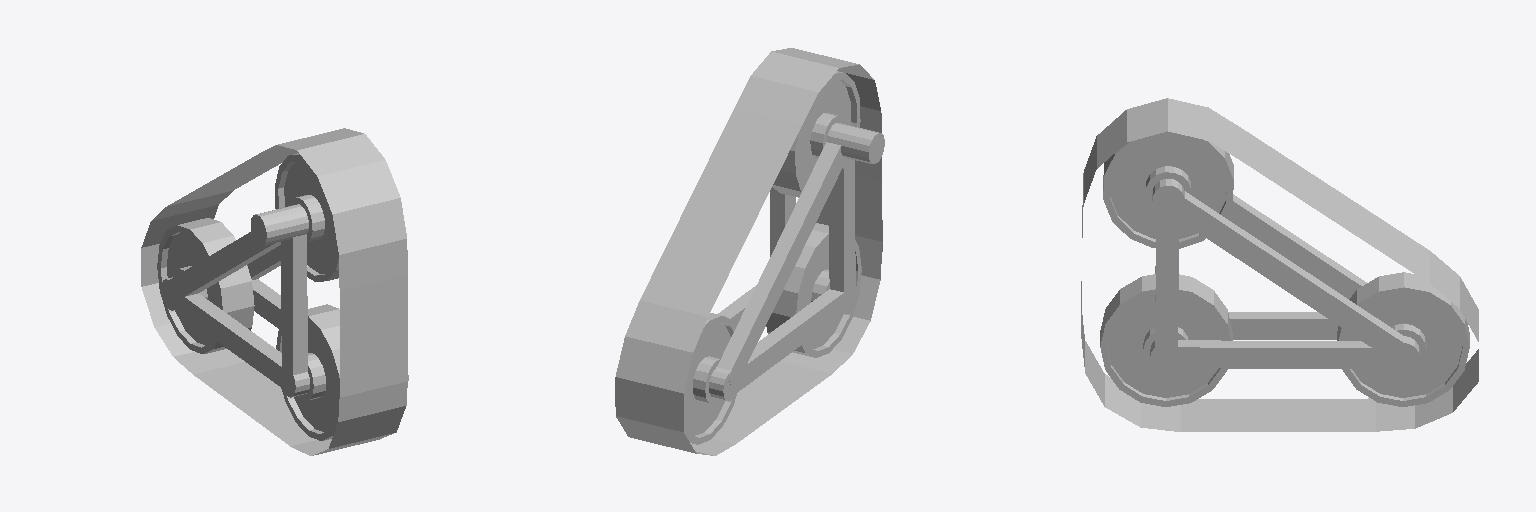
The model's file is wheel_back.obj.
3 renders of one model, left to right at view 1: azimuth 30°, elevation 25°; view 2: azimuth 150°, elevation 25°; view 3: azimuth 270°, elevation 25°, orthographic.
Parts seen in each view (by area): view 1: Cube.028, Cylinder.014; view 2: Cube.028, Cylinder.014; view 3: Cylinder.014, Cube.028.
Part boxes in pixels (x1,y1,x2,y2): Cube.028: (141,128,408,455); Cylinder.014: (157,153,339,440); Cube.028: (615,48,882,455); Cylinder.014: (684,71,884,444); Cylinder.014: (1100,131,1469,406); Cube.028: (1081,98,1478,431).
Bounding box in the file's own units: 1.11 × 3 × 3.59.